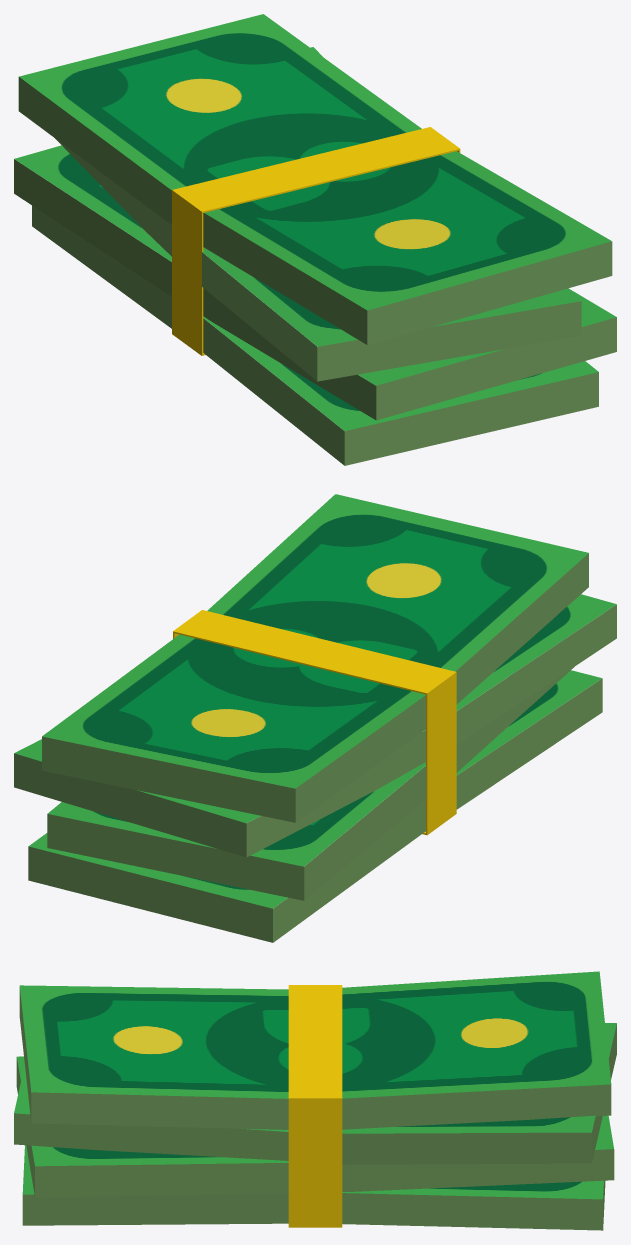
The model's file is dollarupdate.fbx.
3 renders of one model, top to bottom at view 1: azimuth 30°, elevation 25°; view 2: azimuth 150°, elevation 25°; view 3: azimuth 270°, elevation 25°, orthographic. The views are drawn at different scales.
Visible parts, largest first — view 1: Cube, Cube.004; view 2: Cube, Cube.004; view 3: Cube, Cube.004.
Part boxes in pixels (bbox=[...]): Cube: bbox=[14, 14, 616, 465]; Cube.004: bbox=[172, 127, 460, 355]; Cube: bbox=[14, 494, 616, 942]; Cube.004: bbox=[173, 610, 456, 835]; Cube: bbox=[14, 971, 616, 1230]; Cube.004: bbox=[288, 985, 342, 1227].
Size of the model in its own units: 242 by 120 by 463.
